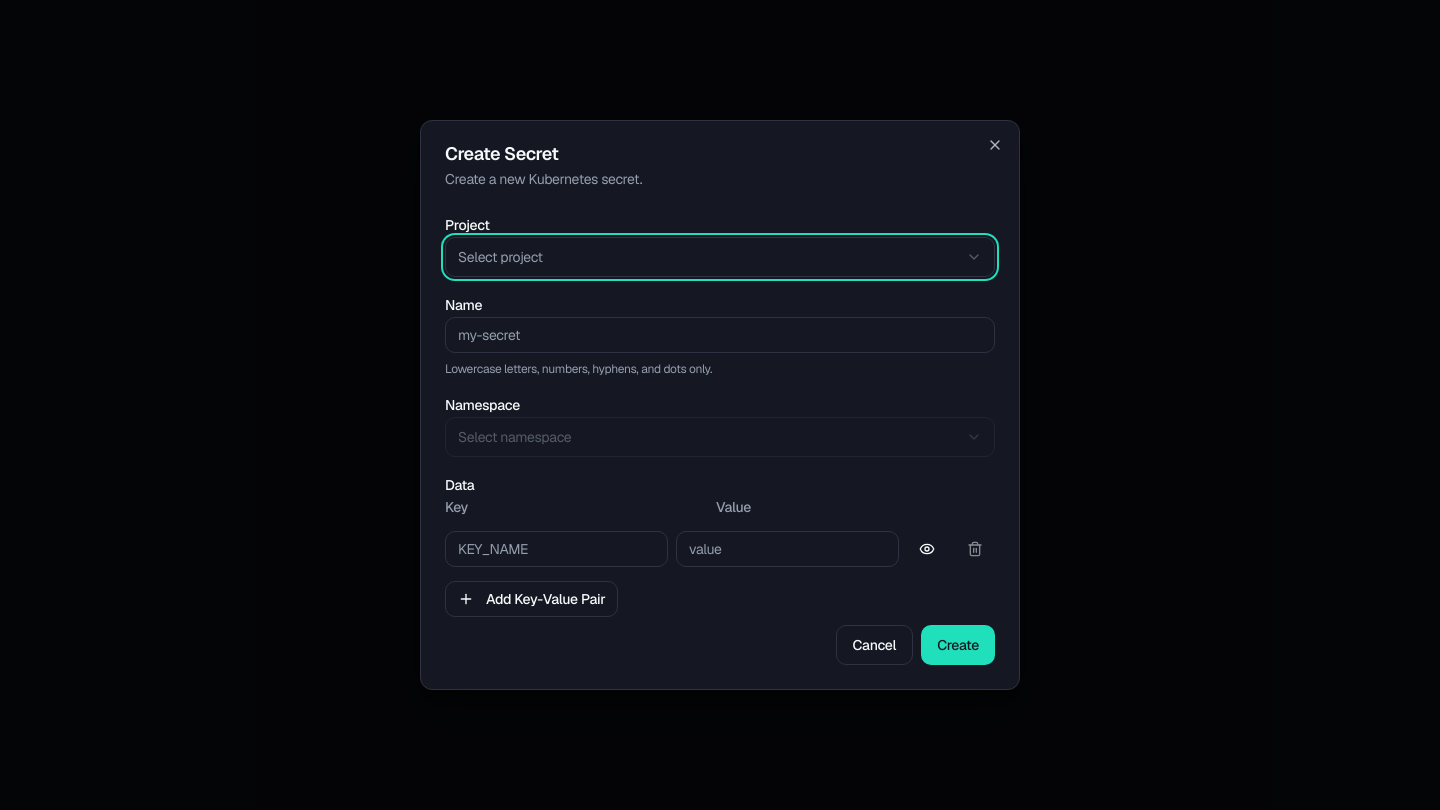
Test: CreateSecretDialog › rejects invalid K8s secret names
The image size is (1440, 810).
Note: Enter an invalid name (uppercase, spaces)
Type "MY SECRET!" into the field labelled "Name".
click(720, 335); type("MY SECRET!")  # box [445,317,995,353]
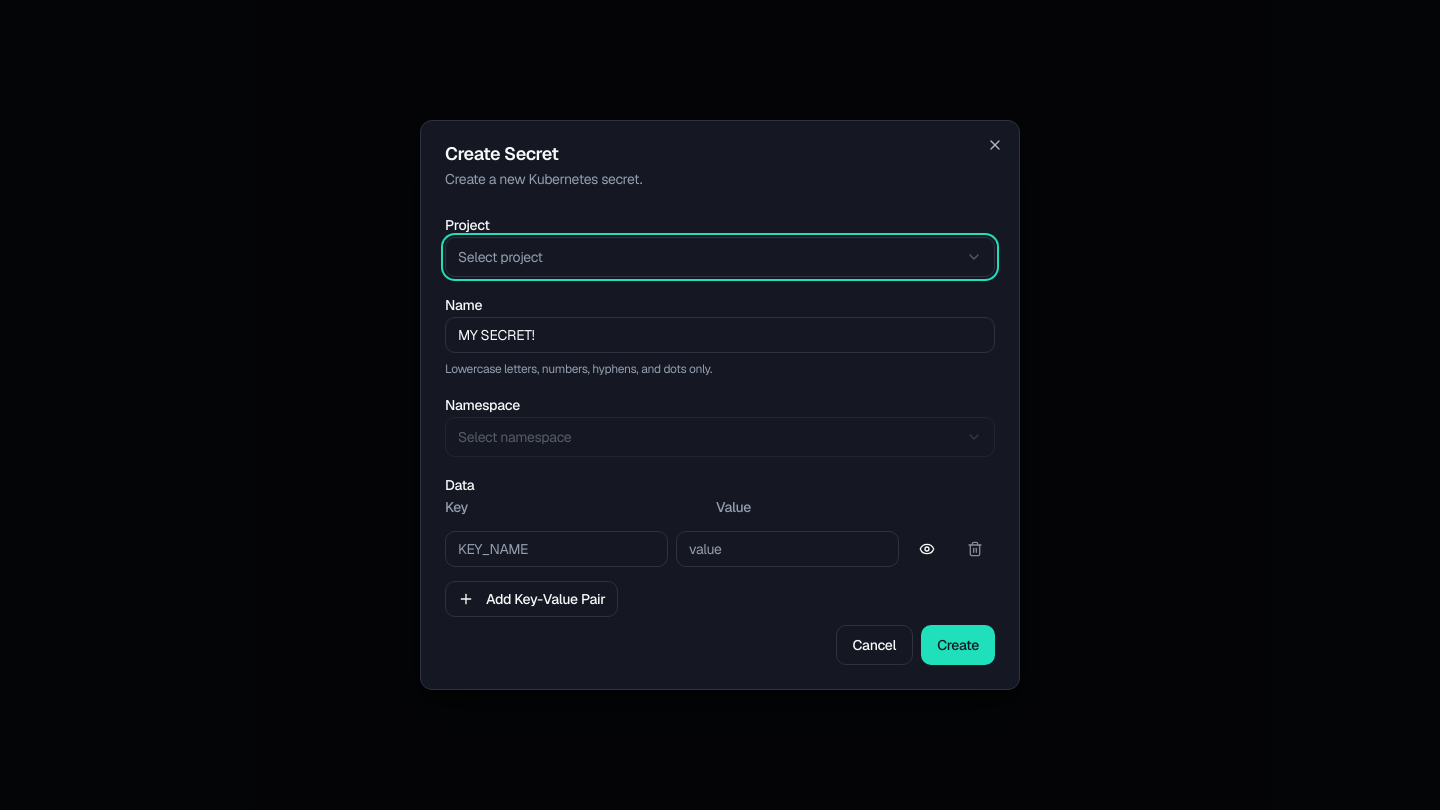
Click the button "Create".
click(958, 645)  # box [921,625,995,665]
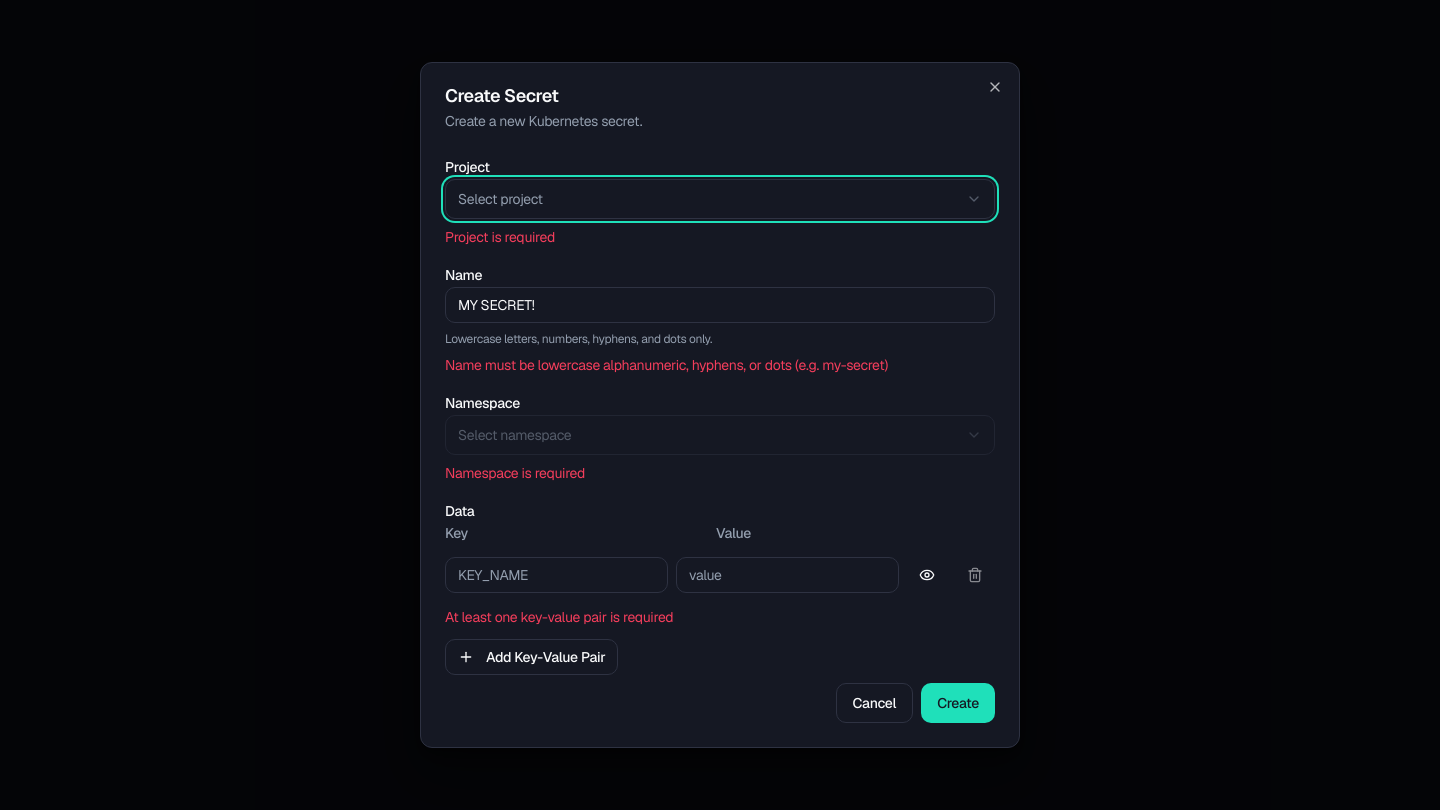
Expected: the text "Name must be lowercase alphanumeric, hyphens, or dots (e.g. my-secret)" is shown, [445,356,888,374]
